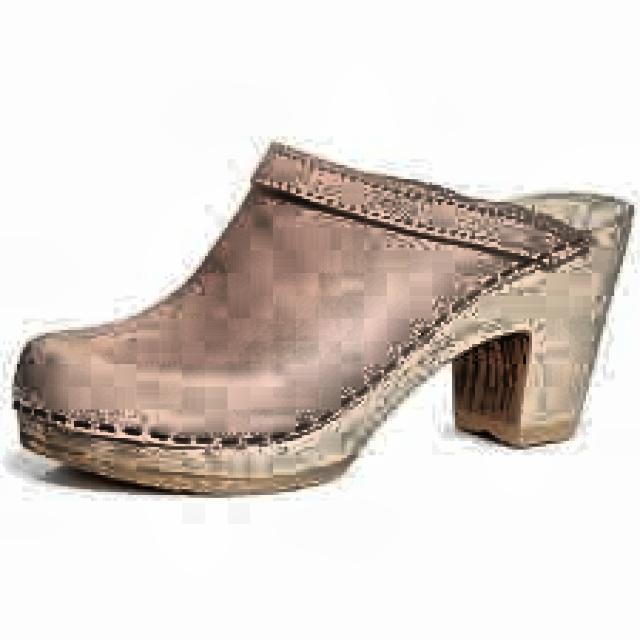shoes: (7, 146, 638, 494)
